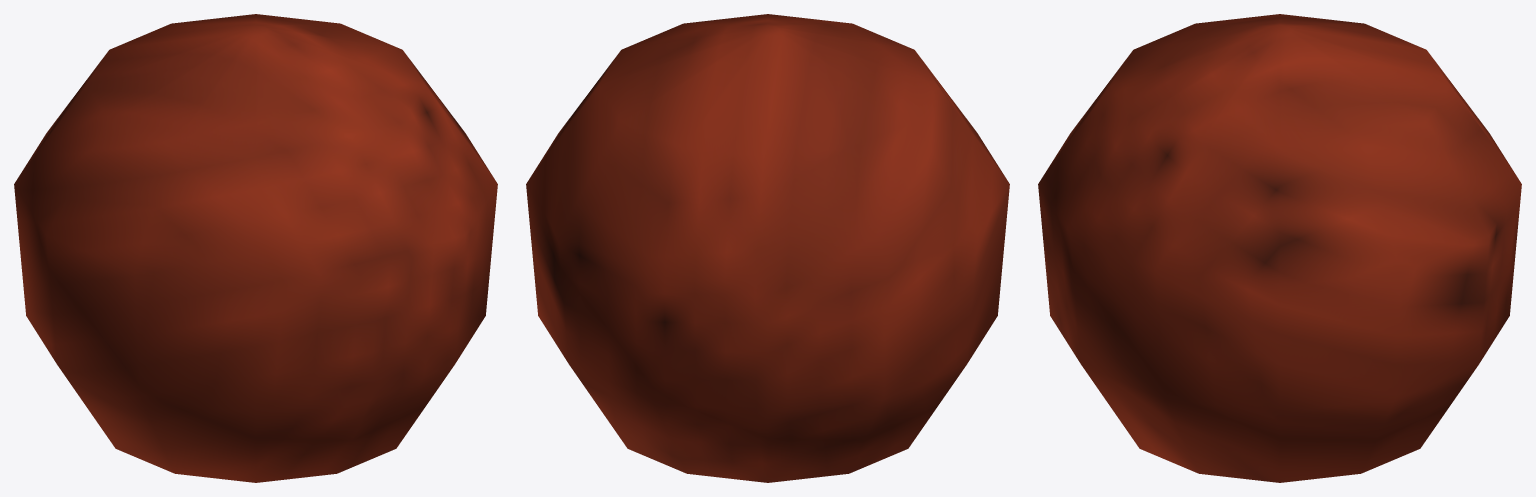
Rendered from fx_explosion.glb.
3 renders of one model, left to right at view 1: azimuth 30°, elevation 25°; view 2: azimuth 150°, elevation 25°; view 3: azimuth 270°, elevation 25°, orthographic.
Parts seen in each view (by area): view 1: fx_explosion.001; view 2: fx_explosion.001; view 3: fx_explosion.001.
Boxes of the visible parts, left/top/right/bottom form: fx_explosion.001: left=14, top=14, right=497, bottom=482; fx_explosion.001: left=526, top=14, right=1009, bottom=482; fx_explosion.001: left=1038, top=14, right=1521, bottom=482.
Size of the model in its own units: 0.16 by 0.16 by 0.16.
Materials: 1 (1 with a texture image).
